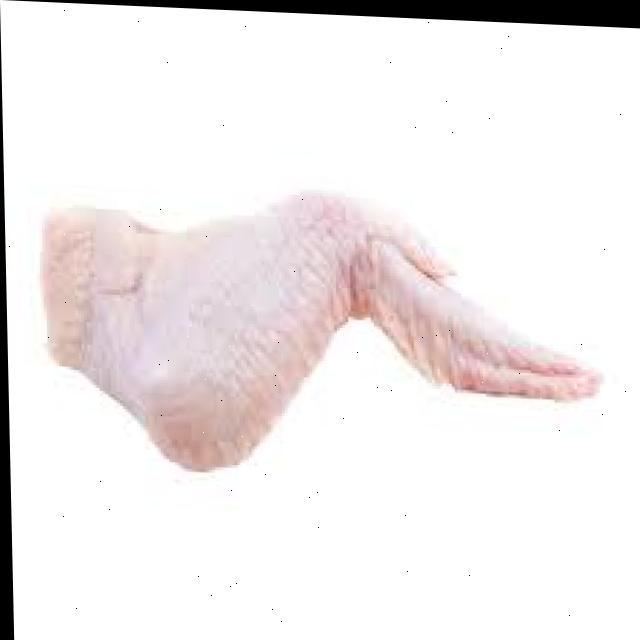wing: (39, 176, 612, 484)
